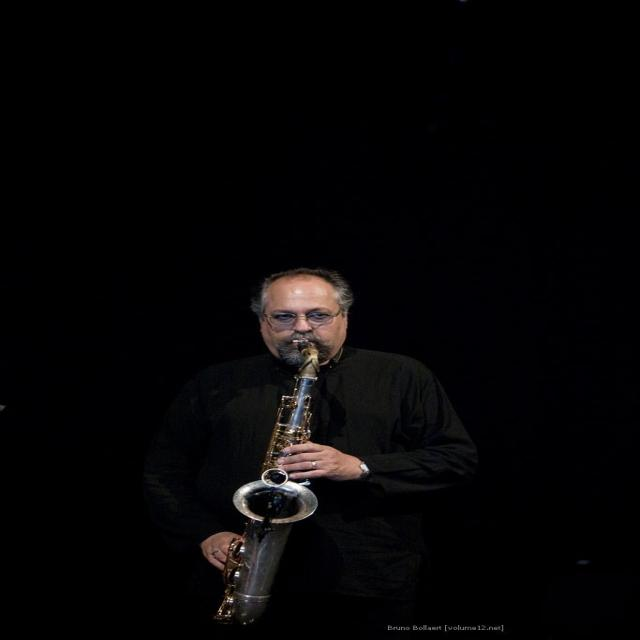saxophone: (205, 340, 333, 630)
